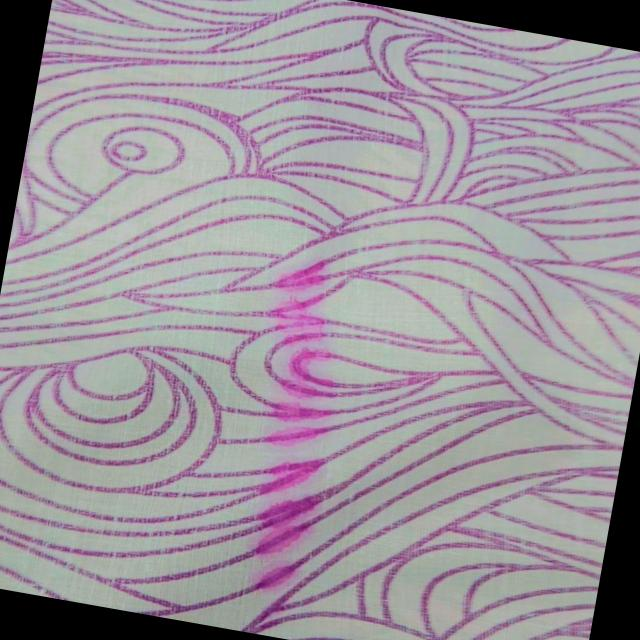stain: (220, 251, 372, 604)
